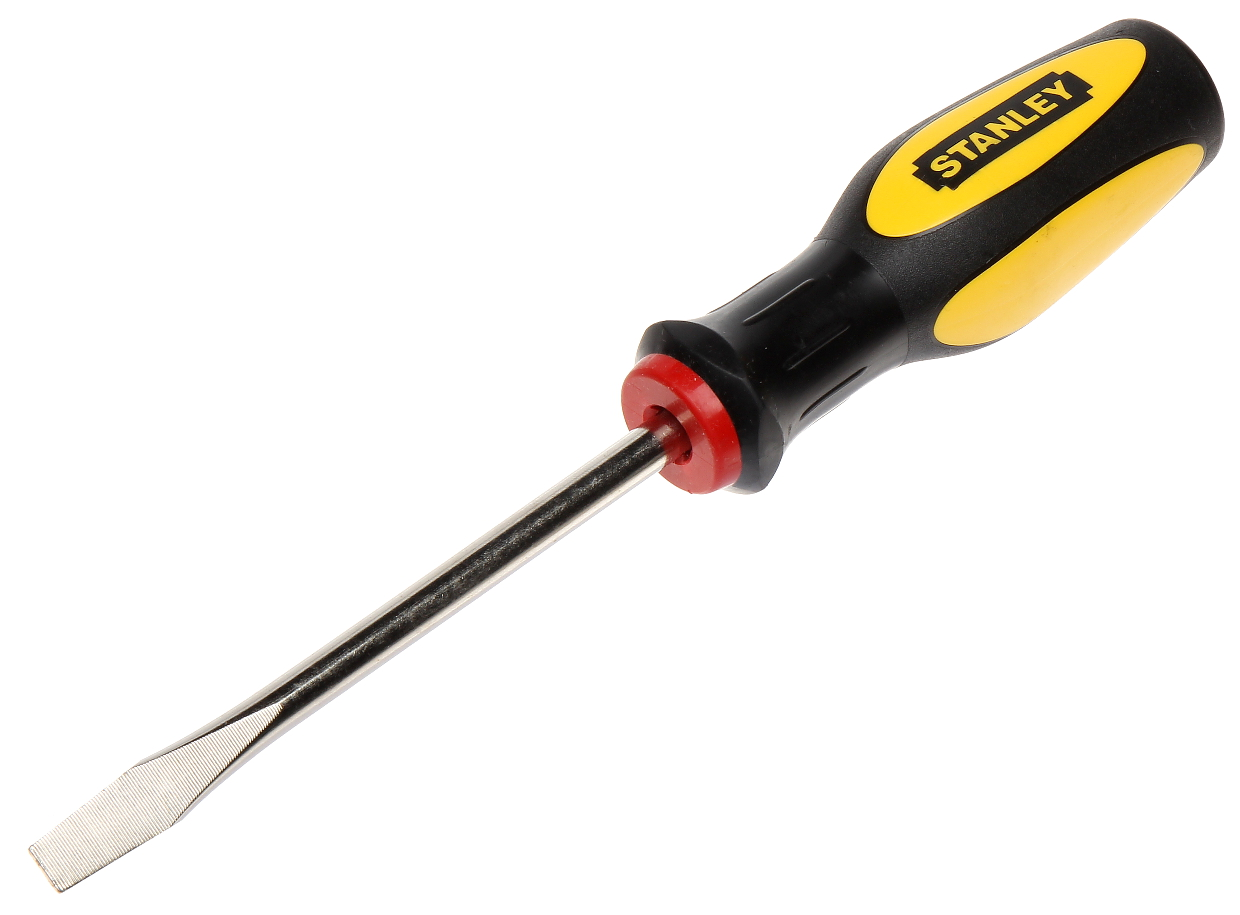screwdriver: (24, 15, 1230, 895)
